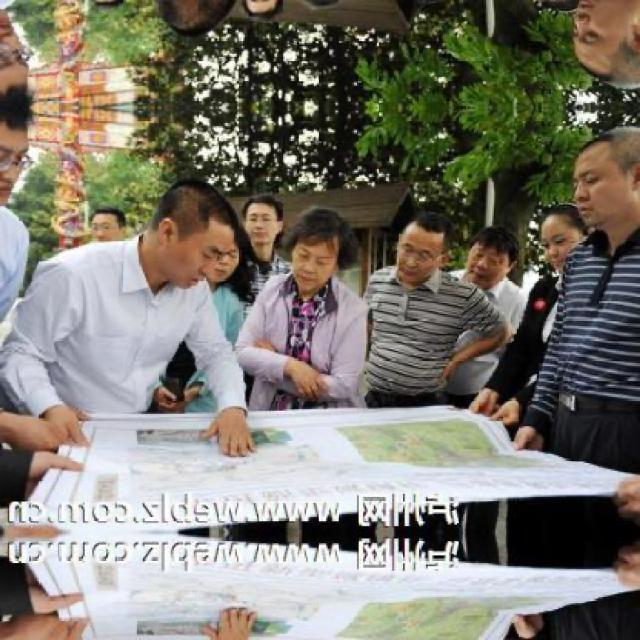sin casco: (124, 170, 243, 296), (369, 204, 509, 310), (538, 122, 640, 250), (154, 189, 278, 273), (245, 220, 347, 301), (523, 204, 597, 290)
